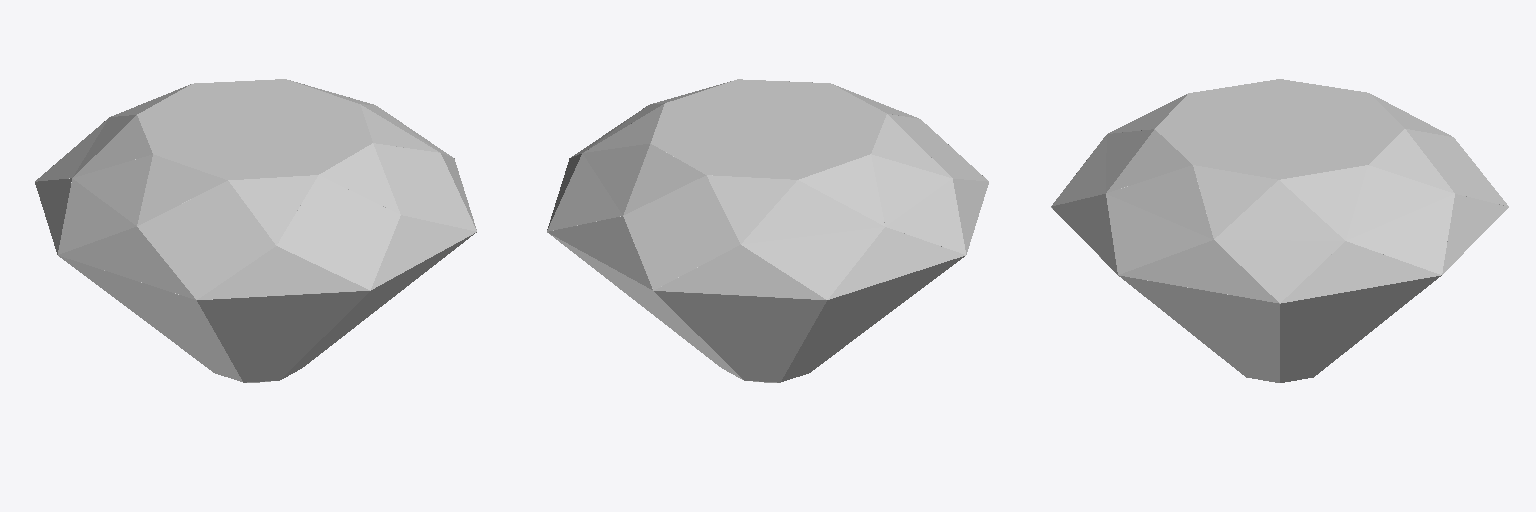
The model's file is BlueEmerald.obj.
3 renders of one model, left to right at view 1: azimuth 30°, elevation 25°; view 2: azimuth 150°, elevation 25°; view 3: azimuth 270°, elevation 25°, orthographic.
Parts seen in each view (by area): view 1: EmeraldBlue; view 2: EmeraldBlue; view 3: EmeraldBlue.
Part boxes in pixels (x1,y1,x2,y2): EmeraldBlue: (35,79,476,382); EmeraldBlue: (547,79,988,382); EmeraldBlue: (1051,79,1508,382).
Size of the model in its own units: 2.24 by 1.37 by 2.24.